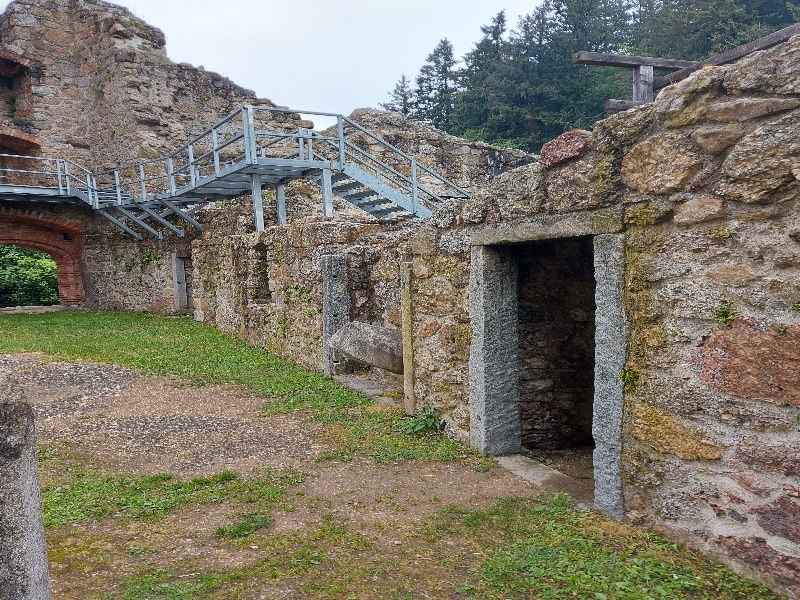door1: (163, 251, 207, 313)
door2: (456, 216, 639, 518)
